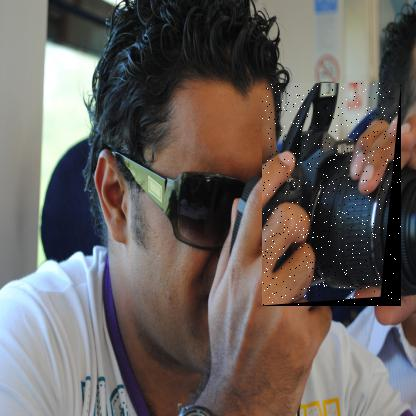Camera: (263, 84, 403, 308)
